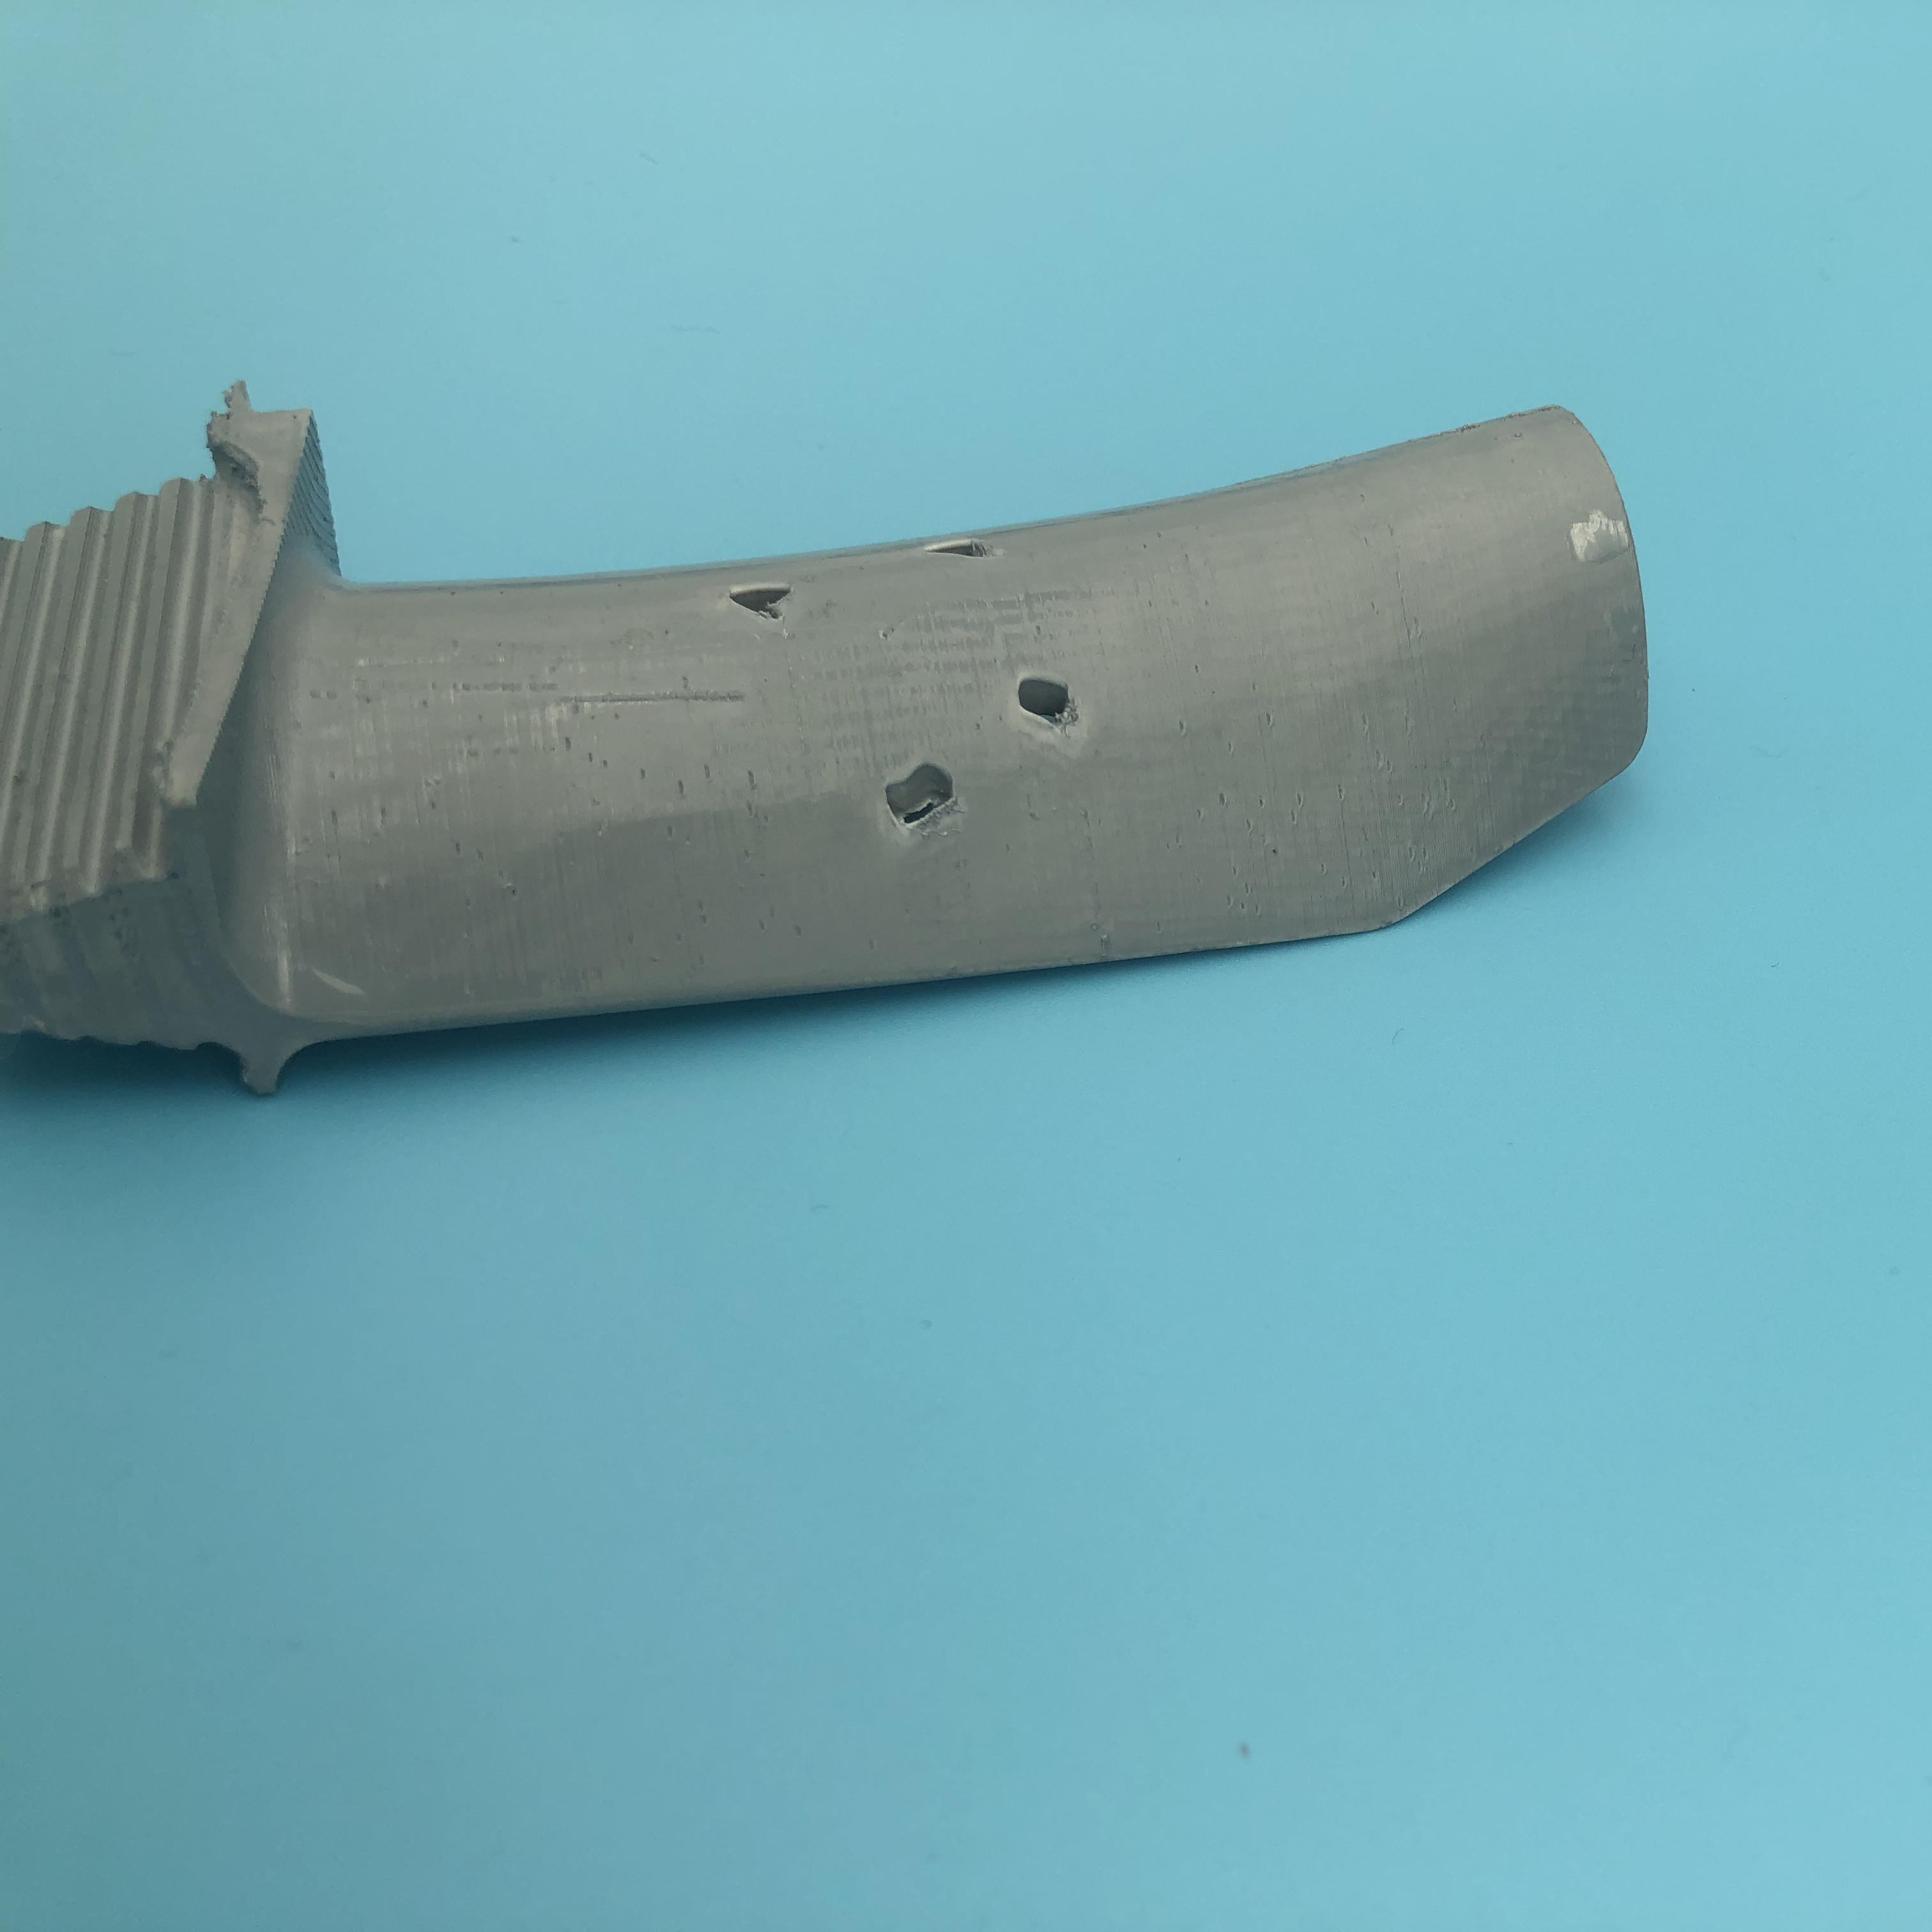breakdown: (886, 679, 1116, 849), (731, 547, 1012, 616)
